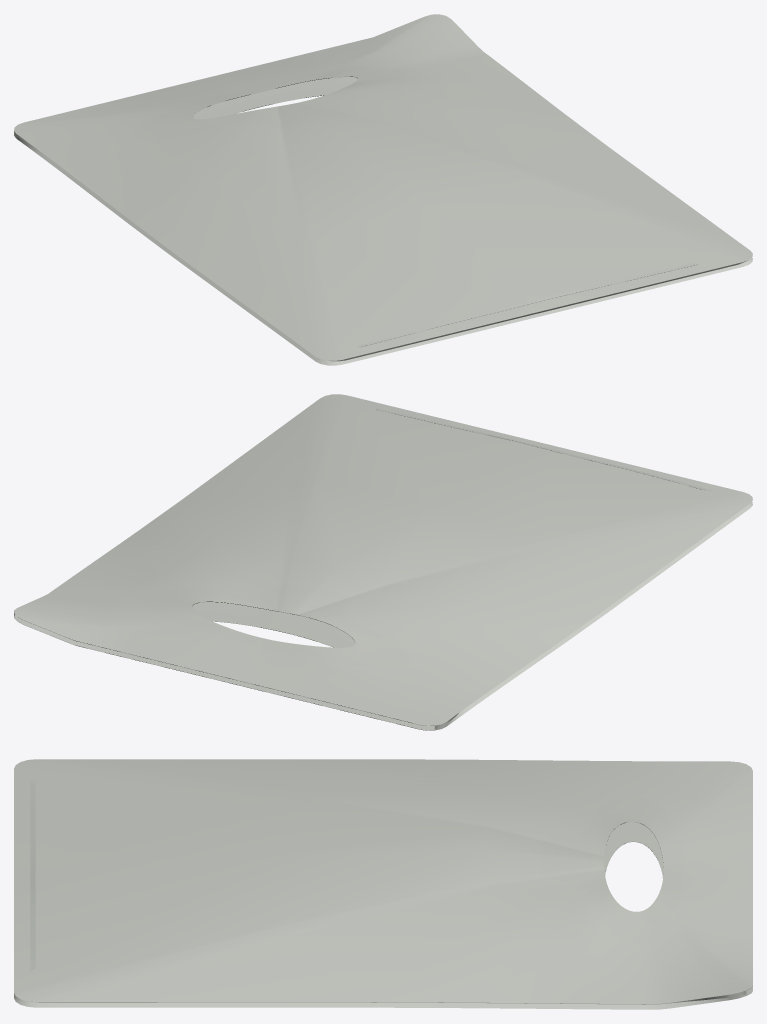
File: HouseholdBag_LOD0.fbx
3 renders of one model, top to bottom at view 1: azimuth 30°, elevation 25°; view 2: azimuth 150°, elevation 25°; view 3: azimuth 270°, elevation 25°, orthographic. The views are drawn at different scales.
Parts seen in each view (by area): view 1: Body_LOD0; view 2: Body_LOD0; view 3: Body_LOD0.
Boxes of the visible parts, x1,y1,x2,y2 form: Body_LOD0: (14, 14, 752, 365); Body_LOD0: (14, 394, 752, 730); Body_LOD0: (14, 759, 752, 1009).
Size of the model in its own units: 0.2826 by 0.0202 by 0.36.
